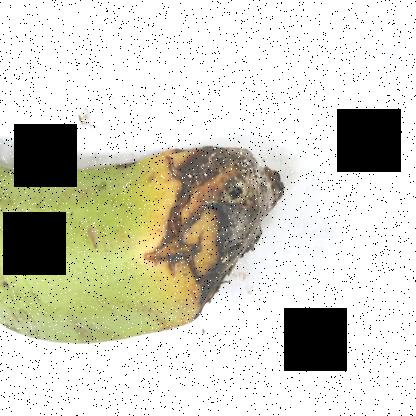rotten: (116, 114, 321, 342)
